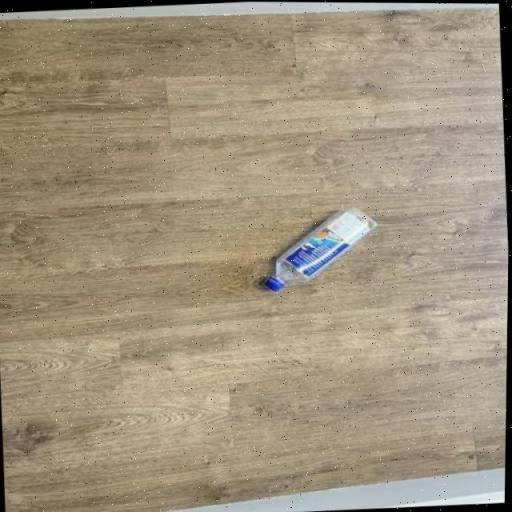plastic: (261, 204, 381, 292)
